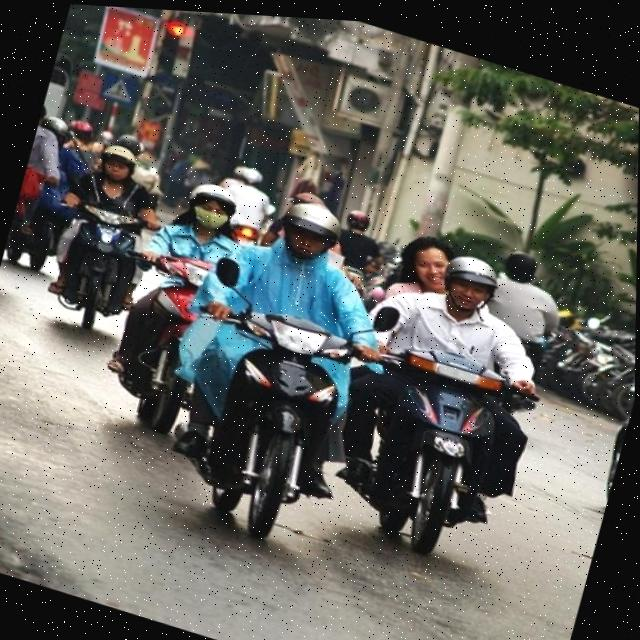motorcycle: (166, 279, 370, 566), (315, 325, 539, 584), (91, 223, 240, 452), (38, 181, 161, 352), (0, 116, 92, 289), (537, 307, 636, 419)
